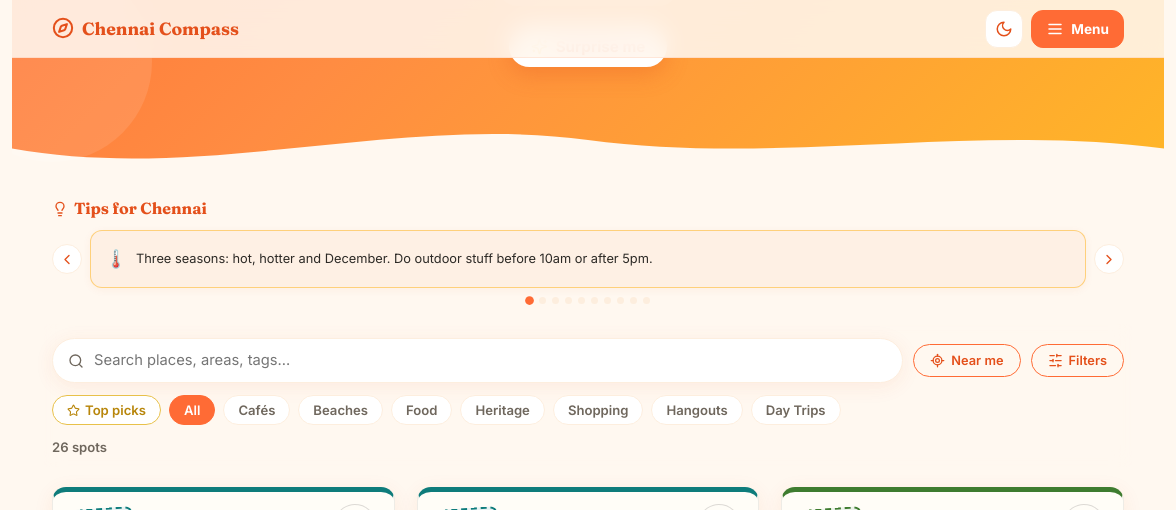
near me › turning near me off restores the curated order and clears the distance filter
(page scrolled)
Click the button "Near me" at (967,361), box top-left (913, 344), bottom-right (1021, 377)
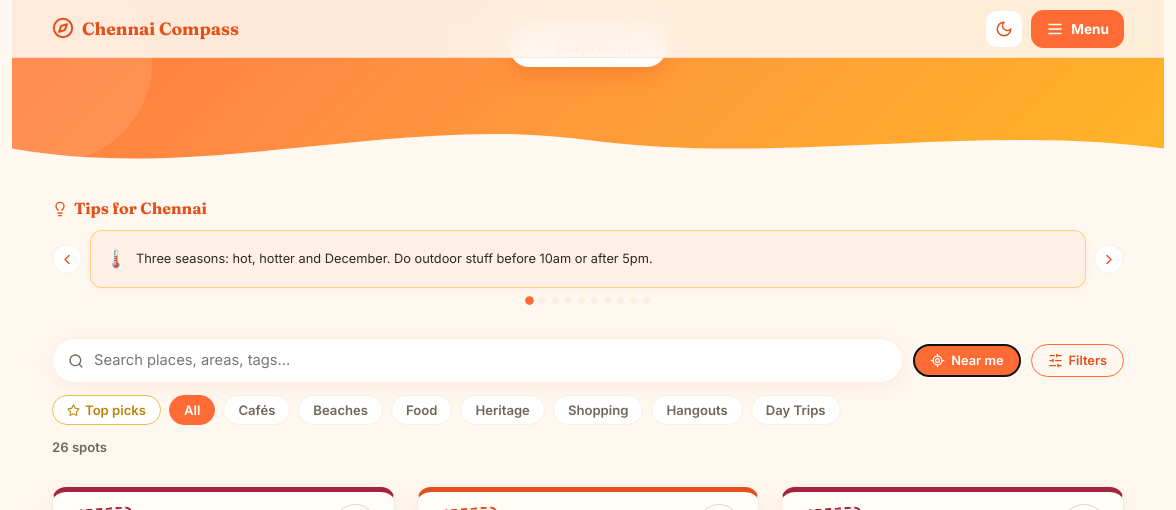
Click the button "Filters" at (1077,361), box top-left (1030, 344), bottom-right (1124, 377)
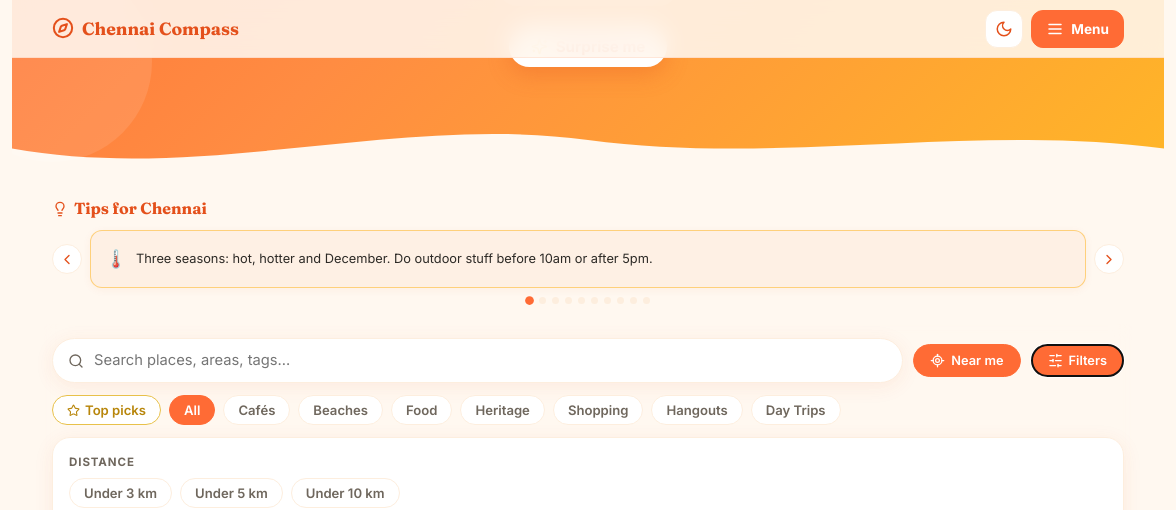
Click the button "Under 3 km" at (120,493), box top-left (69, 478), bottom-right (172, 508)
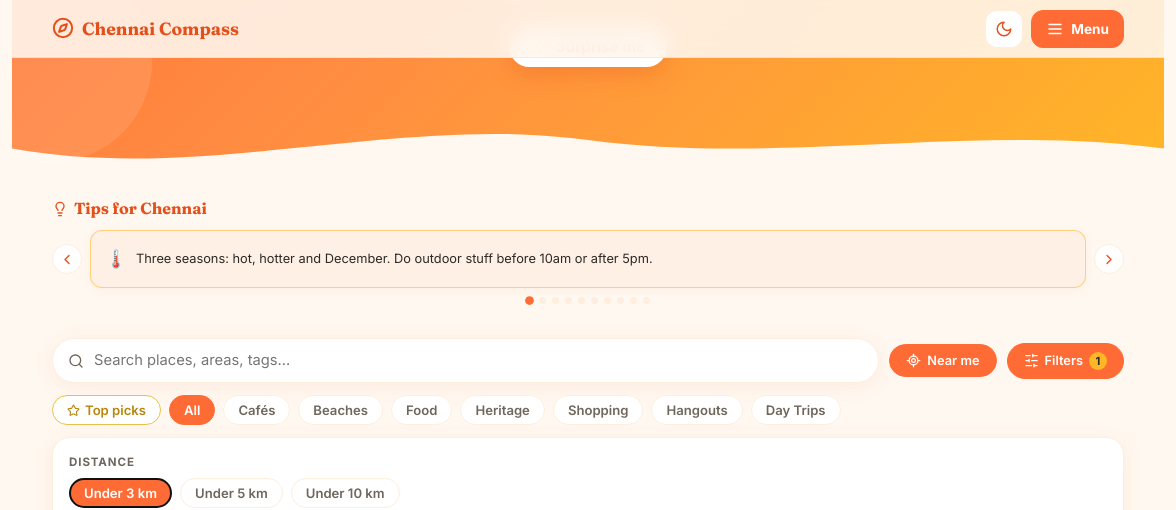
Click the button "Near me" at (943,361), box top-left (889, 344), bottom-right (997, 377)
(page scrolled)
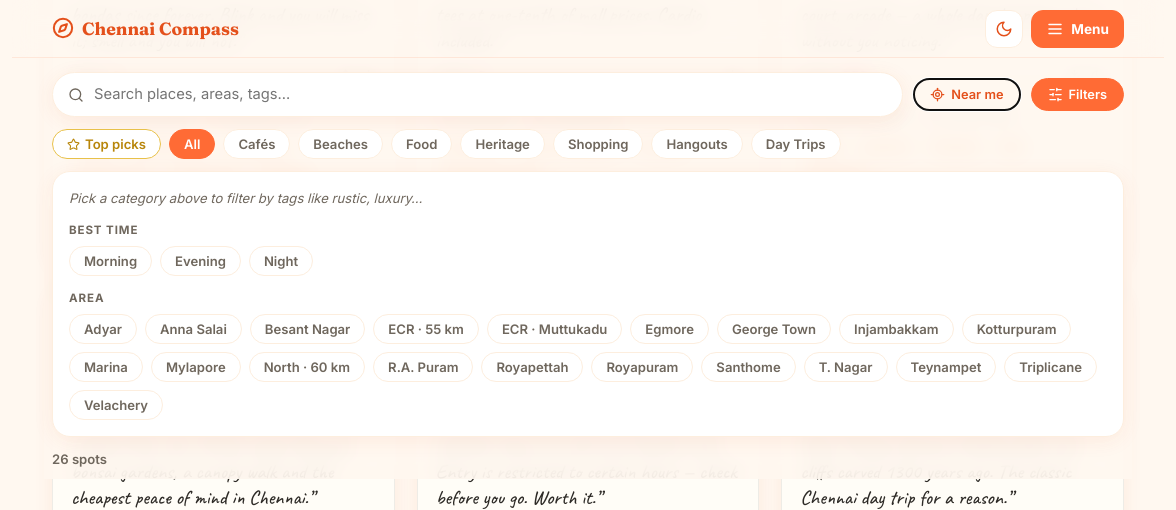
Expected: the text "· ~0 m" is not shown
Now the heading "Mahabalipuram" is shown, box top-left (878, 347), bottom-right (1050, 371)
